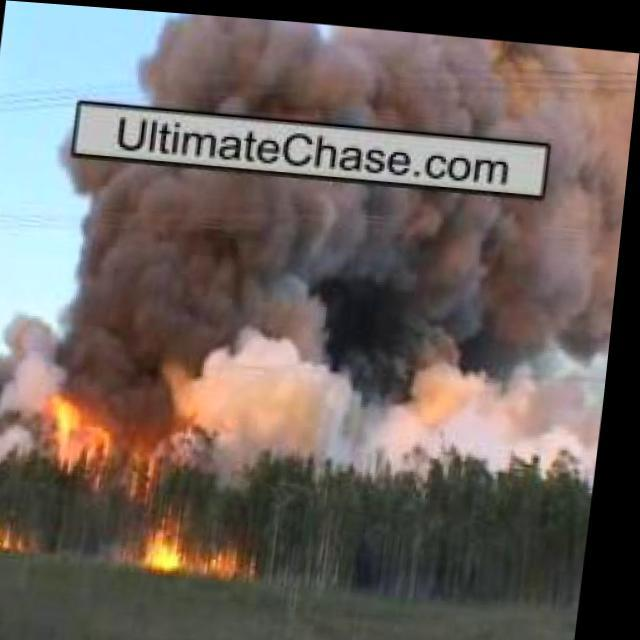fire: (157, 506, 263, 578), (46, 392, 130, 471), (1, 516, 52, 548)
